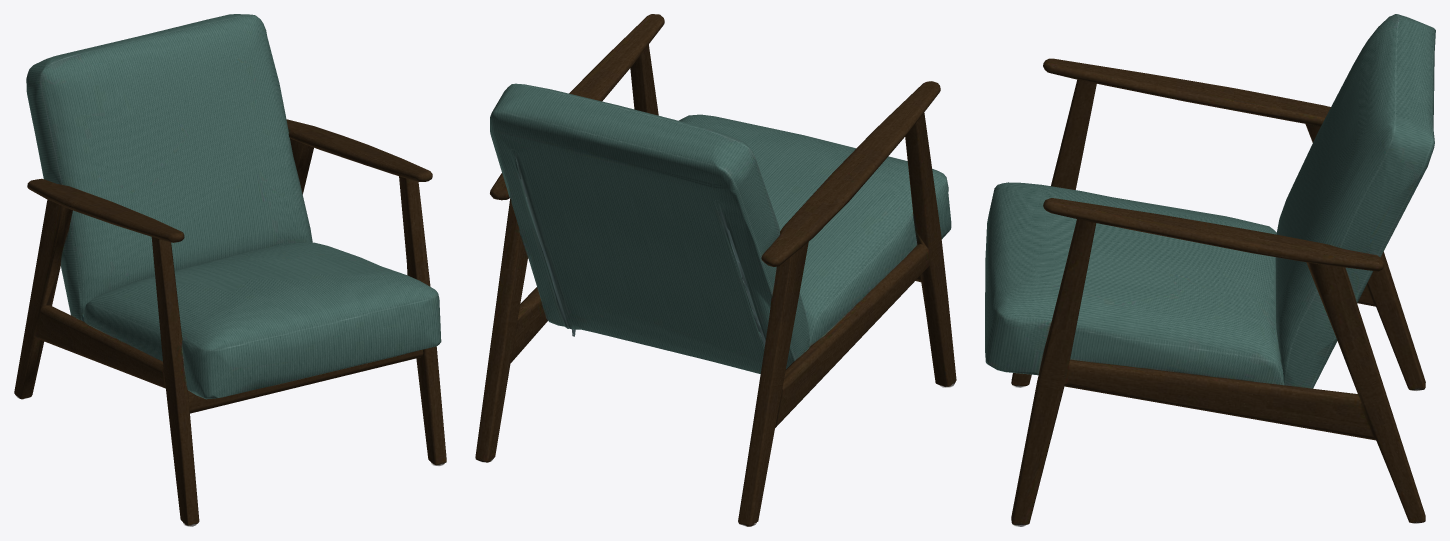
The picture shows the model from 3 angles, left to right: view 1: azimuth 30°, elevation 25°; view 2: azimuth 150°, elevation 25°; view 3: azimuth 270°, elevation 25°; orthographic projection. The views are drawn at different scales.
Visible parts, largest first — view 1: model; view 2: model; view 3: model.
Part boxes in pixels (x1,y1,x2,y2): model: (14,14,446,526); model: (475,14,956,526); model: (985,14,1435,526).
Size of the model in its own units: 0.6484 by 0.7551 by 0.7951.
Materials: 1 (1 with a texture image).
